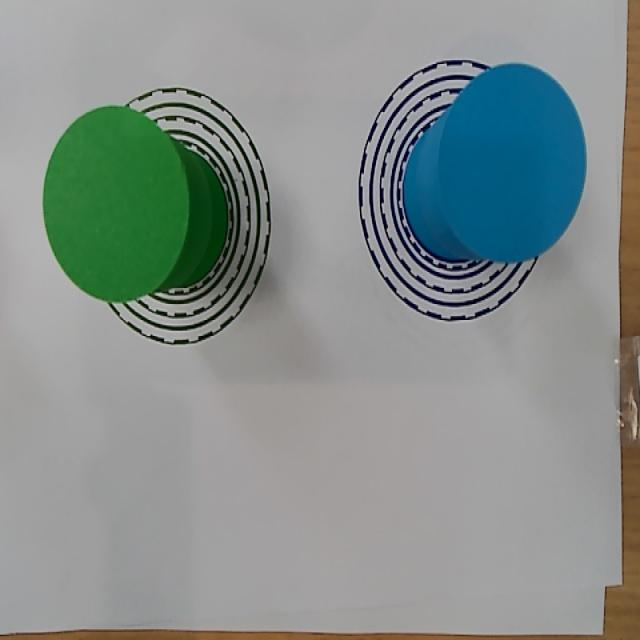b: (436, 64, 586, 261)
g: (44, 105, 188, 302)
